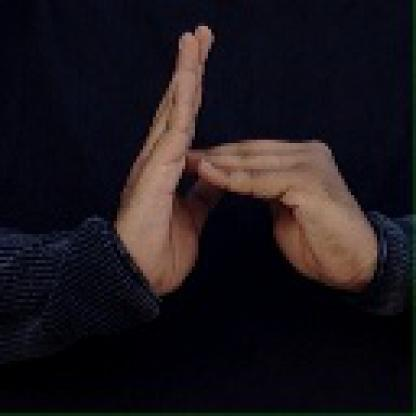Z: (107, 21, 368, 292)
